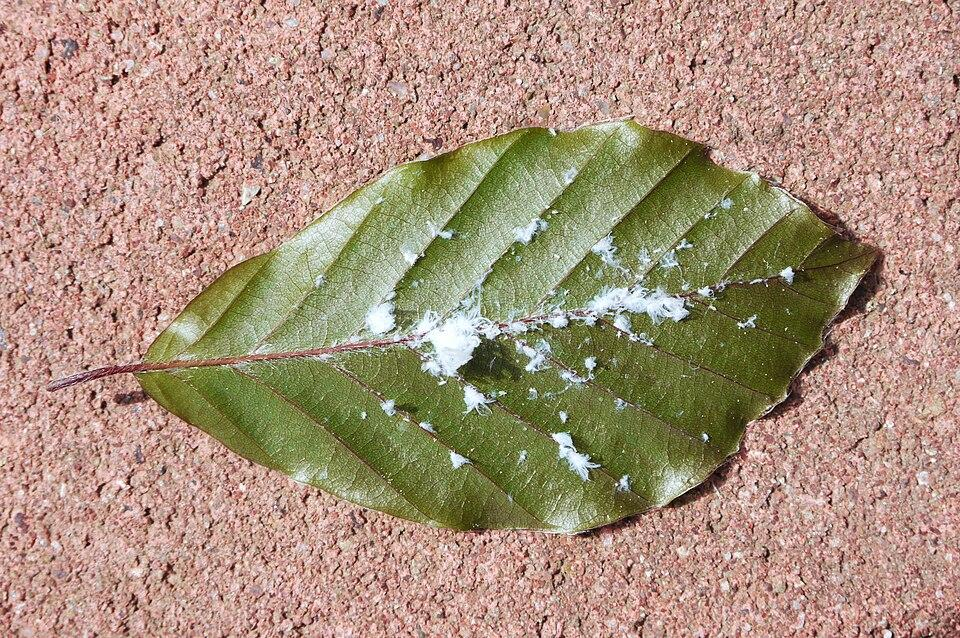pseudococcidae: (322, 198, 807, 512)
